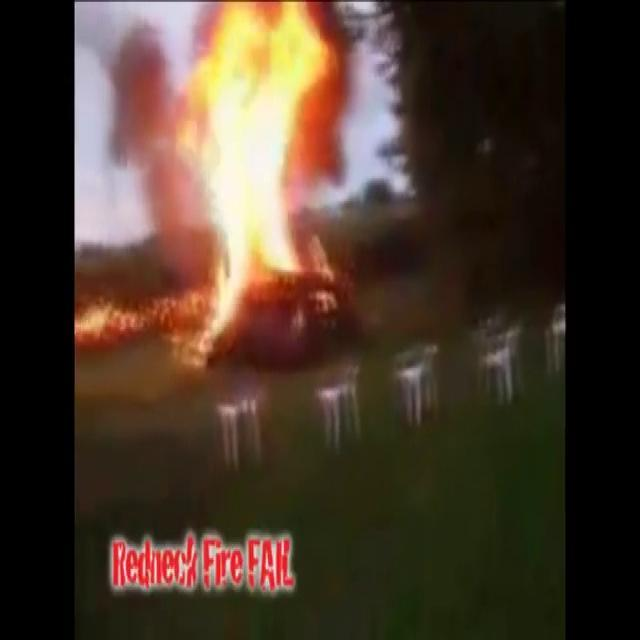Fire: (95, 2, 360, 332)
